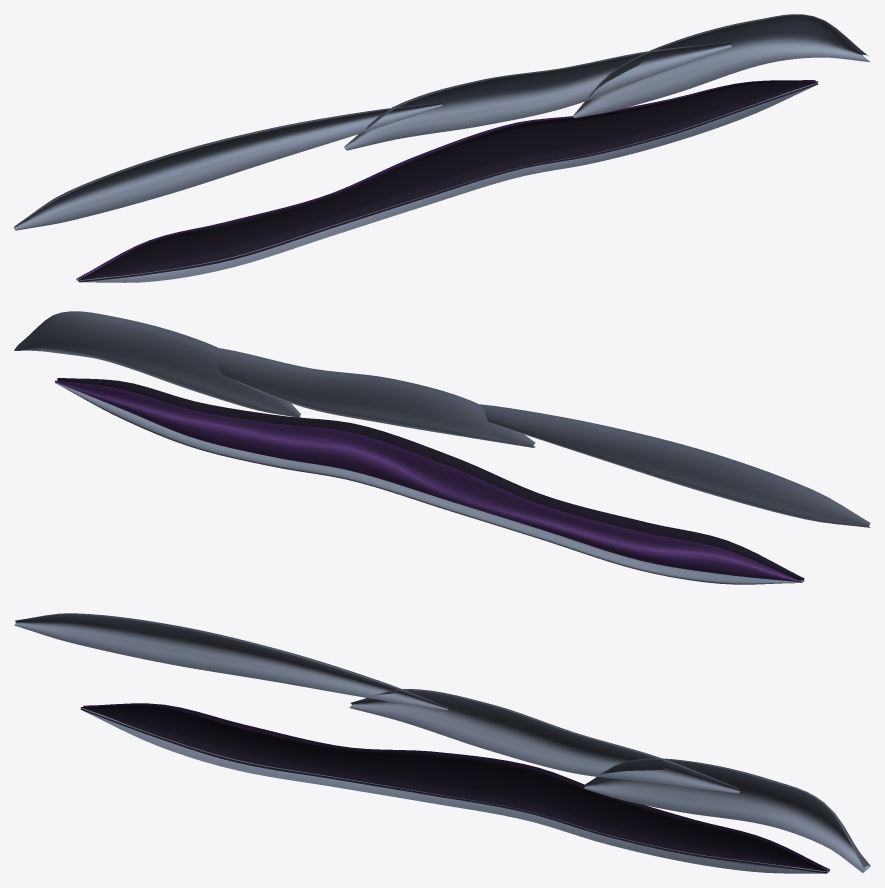
The model's file is Vandal_Moltframe_Shell_v01.fbx.
The picture shows the model from 3 angles, top to bottom: view 1: azimuth 30°, elevation 25°; view 2: azimuth 150°, elevation 25°; view 3: azimuth 330°, elevation 25°; orthographic projection.
Parts seen in each view (by area): view 1: Moltframe_Seat, Moltframe_Aft, Moltframe_Mid, Moltframe_Fore, Moltframe_Lip, Moltframe_Inset; view 2: Moltframe_Inset, Moltframe_Aft, Moltframe_Mid, Moltframe_Fore, Moltframe_Seat, Moltframe_Lip; view 3: Moltframe_Seat, Moltframe_Aft, Moltframe_Mid, Moltframe_Fore, Moltframe_Lip, Moltframe_Inset.
Boxes of the visible parts, box(x1,y1,x2,y2) form: Moltframe_Seat: box(78, 81, 818, 282); Moltframe_Aft: box(14, 103, 442, 230); Moltframe_Mid: box(344, 42, 732, 150); Moltframe_Fore: box(573, 14, 870, 118); Moltframe_Lip: box(76, 82, 817, 282); Moltframe_Inset: box(76, 80, 815, 279); Moltframe_Inset: box(55, 380, 801, 582); Moltframe_Aft: box(480, 404, 870, 527); Moltframe_Mid: box(217, 348, 535, 447); Moltframe_Fore: box(14, 311, 300, 417); Moltframe_Seat: box(57, 378, 804, 580); Moltframe_Lip: box(55, 380, 803, 584); Moltframe_Seat: box(80, 704, 827, 873); Moltframe_Aft: box(14, 613, 448, 710); Moltframe_Mid: box(349, 689, 740, 793); Moltframe_Fore: box(583, 758, 870, 872); Moltframe_Lip: box(81, 708, 829, 873); Moltframe_Inset: box(83, 703, 829, 870).
Size of the model in its own units: 1.64 by 0.2379 by 0.0685.
Materials: 3 (2 with a texture image).
